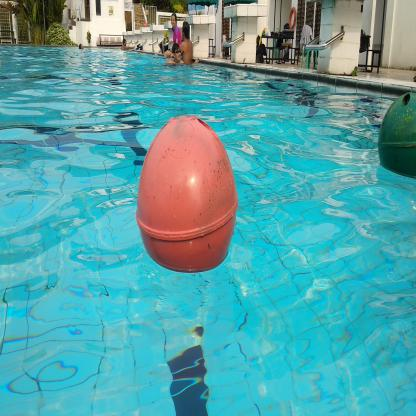green_buoy: (374, 91, 416, 183)
red_buoy: (131, 111, 247, 285)
